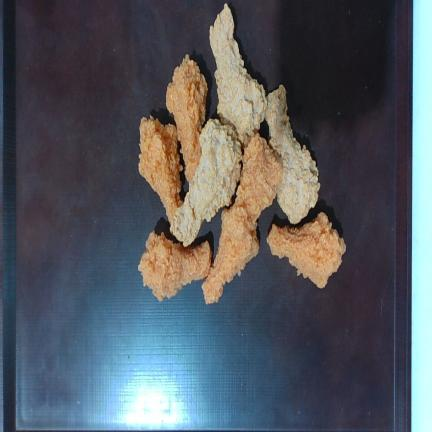chicken: (170, 119, 241, 245), (210, 4, 267, 143), (265, 85, 320, 224), (267, 212, 346, 288), (202, 203, 259, 304), (166, 55, 207, 181), (138, 232, 212, 301), (138, 116, 182, 222), (236, 134, 282, 221)
